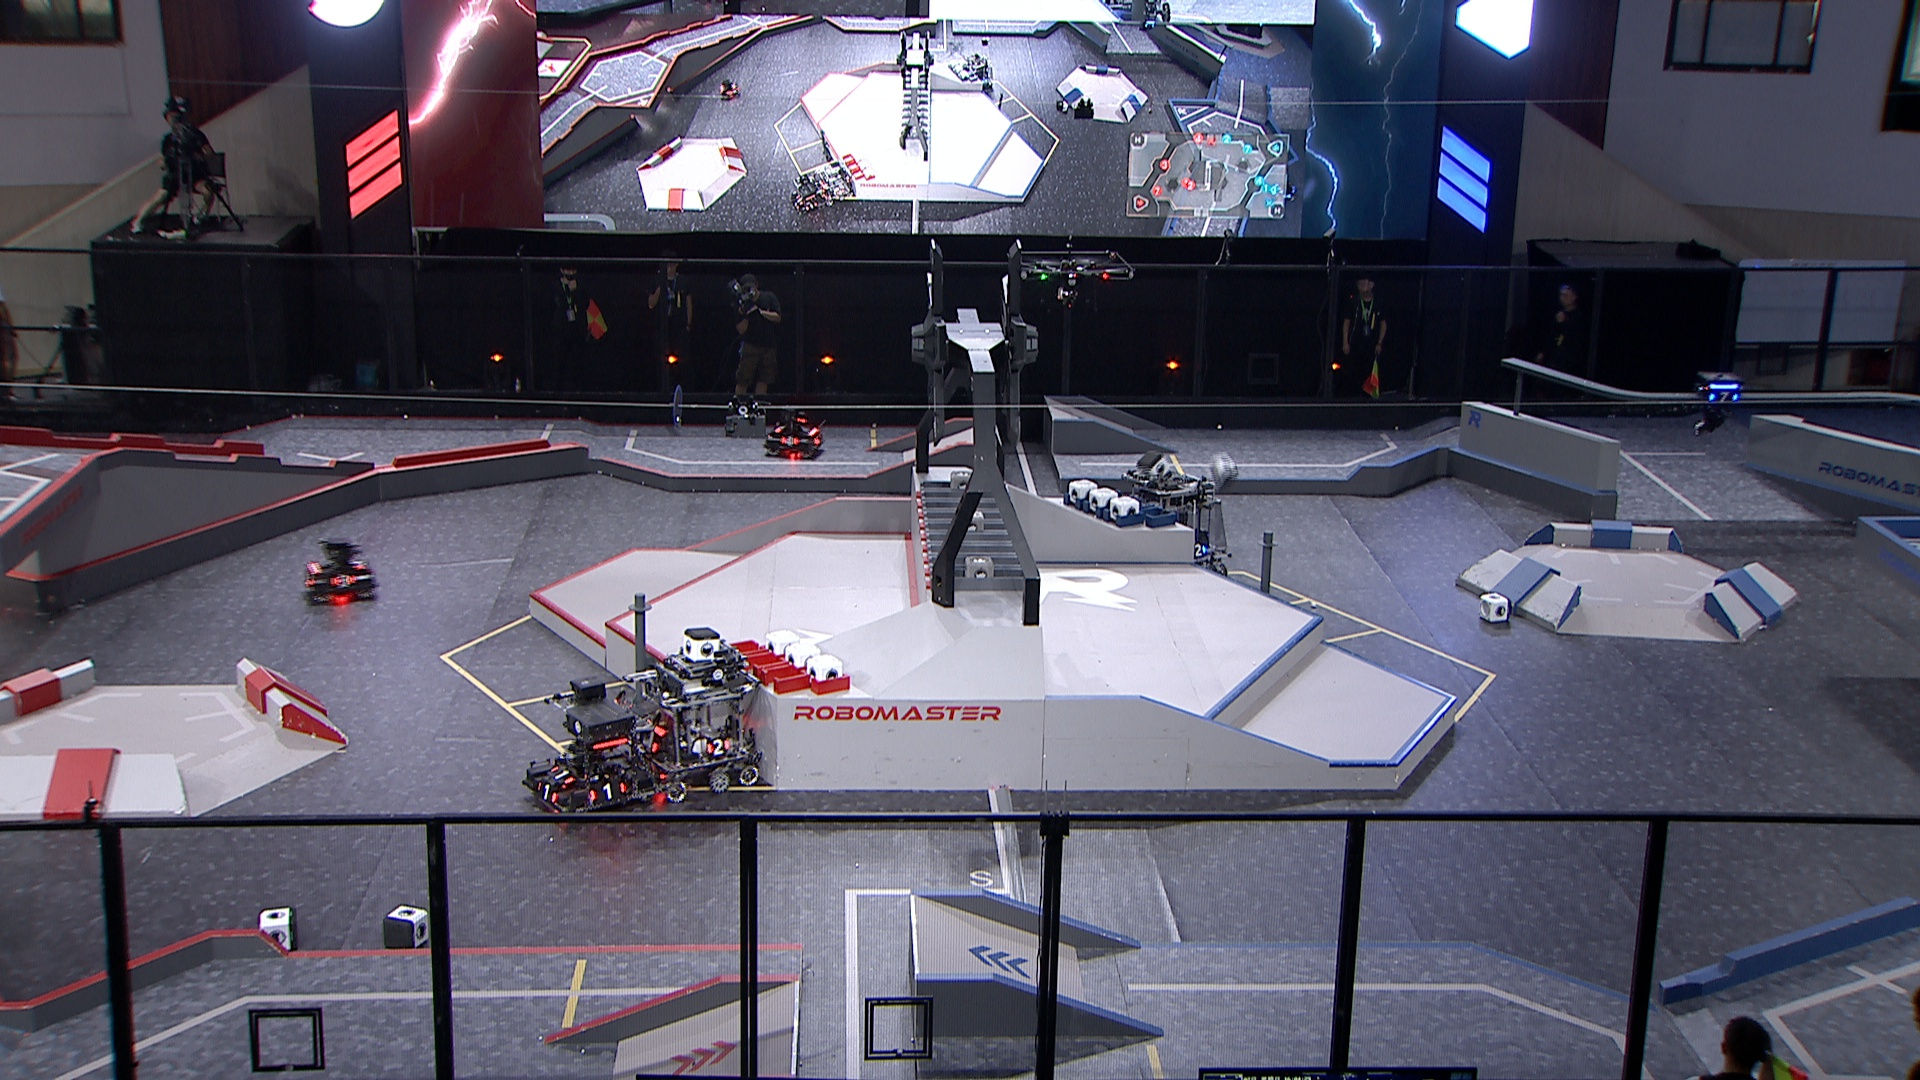armor: (589, 778, 622, 804), (534, 782, 556, 806), (1709, 389, 1741, 405), (551, 764, 574, 785), (705, 737, 731, 754), (334, 572, 357, 585), (1192, 541, 1207, 560), (812, 431, 825, 451), (348, 559, 367, 570), (305, 571, 315, 589), (782, 436, 798, 448), (800, 422, 814, 434)
car: (621, 633, 760, 798), (522, 698, 659, 825), (1116, 465, 1230, 583), (301, 531, 378, 604), (764, 407, 832, 462)
ignore: (787, 169, 831, 214), (816, 162, 858, 200), (961, 54, 998, 84), (716, 76, 741, 98)
watcher: (1689, 365, 1750, 436)
